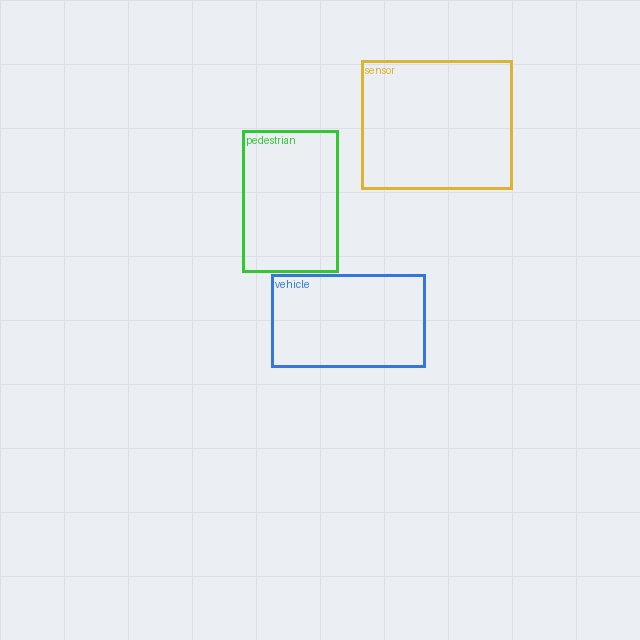pedestrian: (242, 130, 338, 272)
sensor: (361, 60, 512, 189)
vehicle: (271, 274, 425, 367)
